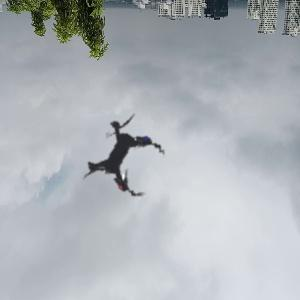drone: (49, 79, 199, 229)
